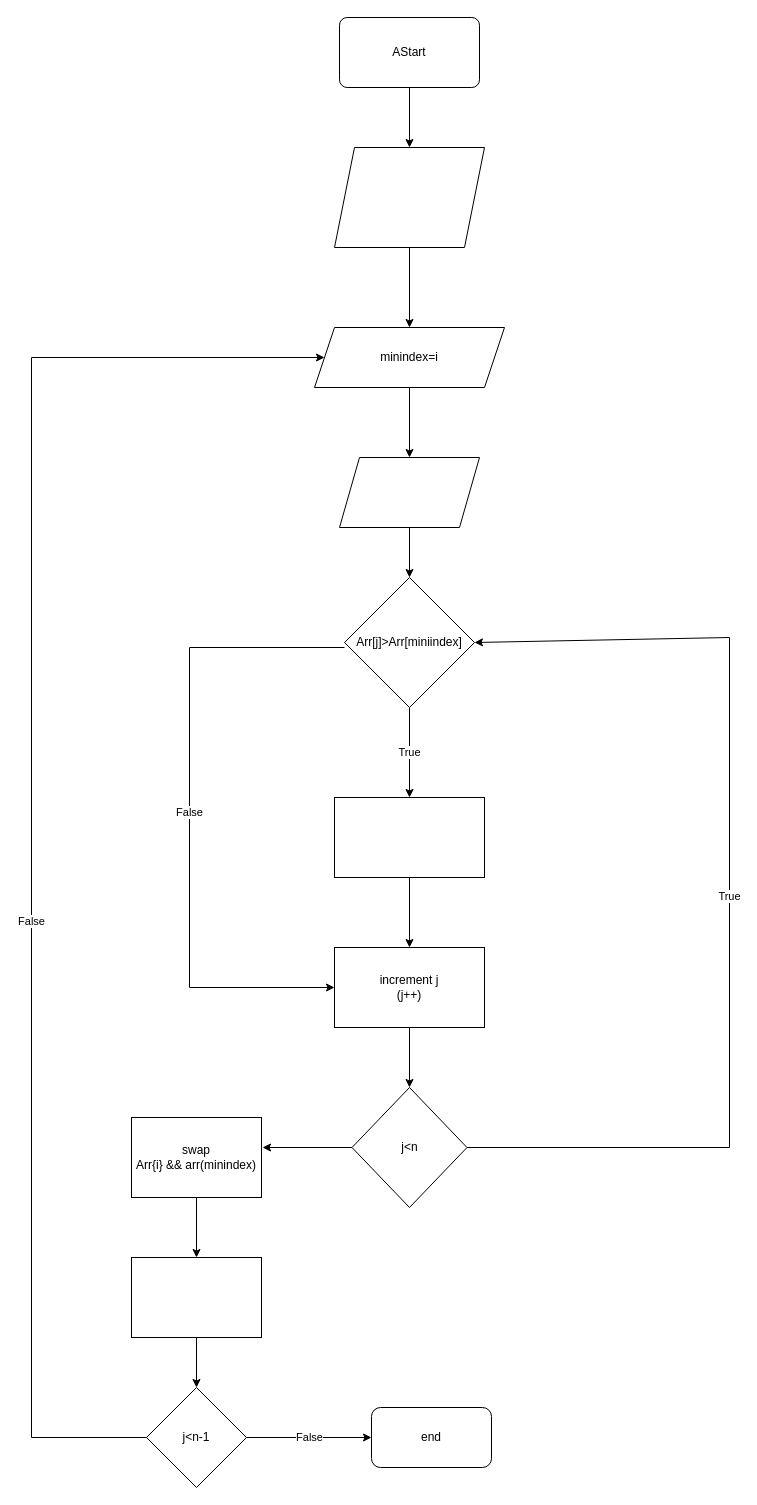
This 757x1505 diagram has some shape labels left out. Here are the shapes that lost their labels. From the top down, the box of each, then its label:
(334, 146, 484, 248): Arr={13,19,23,11,21,30}
(338, 456, 480, 528): J=i+1
(334, 796, 484, 878): miniindex=j
(130, 1256, 262, 1338): increment i (i++)
